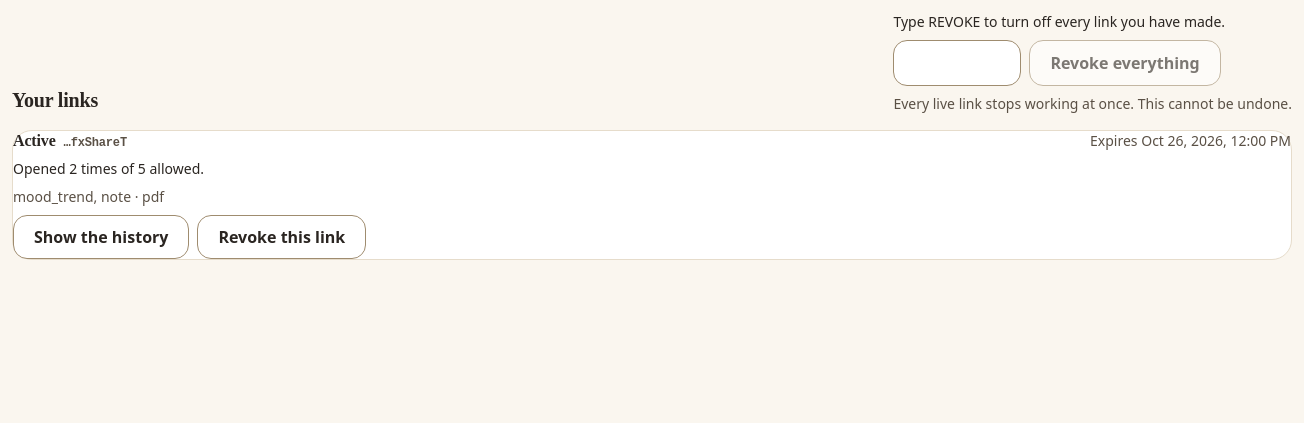
Test: ShareLinks › opens the audit history and names each event and who did it
Click the button "Show the history".
click(101, 237)  # box [13,215,189,259]
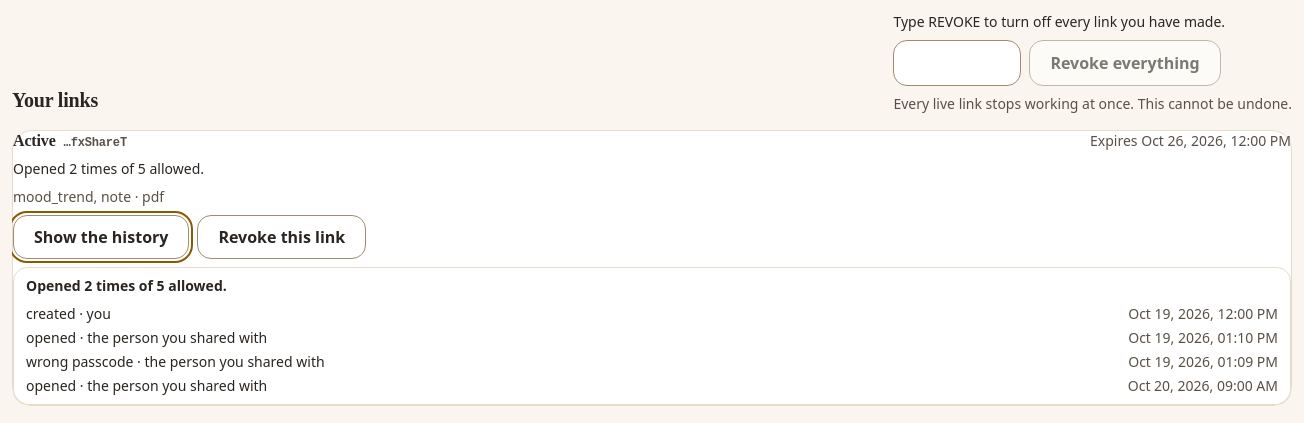
Result: the text with test id "share-audit-summary" reads "Opened 2 times of 5 allowed." at [26,276,227,295]
Result: the number of list items with test id "share-audit-event" is 4 at [26,304,1278,324]; [26,328,1278,348]; [26,352,1278,372]; [26,376,1278,396]
Result: the list item with test id "share-audit-event" shows "created" at [26,304,76,323]
